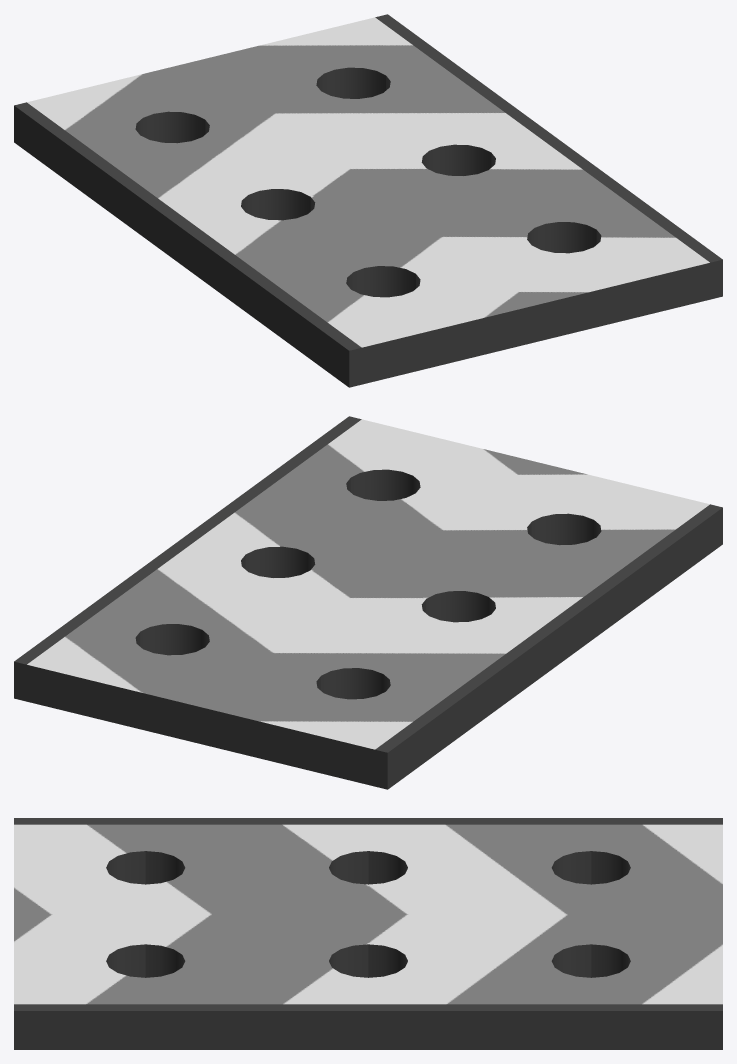
File: obstacle.cylinder.fbx
3 renders of one model, top to bottom at view 1: azimuth 30°, elevation 25°; view 2: azimuth 150°, elevation 25°; view 3: azimuth 270°, elevation 25°, orthographic. The views are drawn at different scales.
Parts seen in each view (by area): view 1: obstacle.cylinder; view 2: obstacle.cylinder; view 3: obstacle.cylinder.
Boxes of the visible parts, box(x1,y1,x2,y2) form: obstacle.cylinder: box(14, 14, 722, 387); obstacle.cylinder: box(14, 416, 722, 789); obstacle.cylinder: box(14, 818, 722, 1049).
Size of the model in its own units: 481 by 45.44 by 747.
